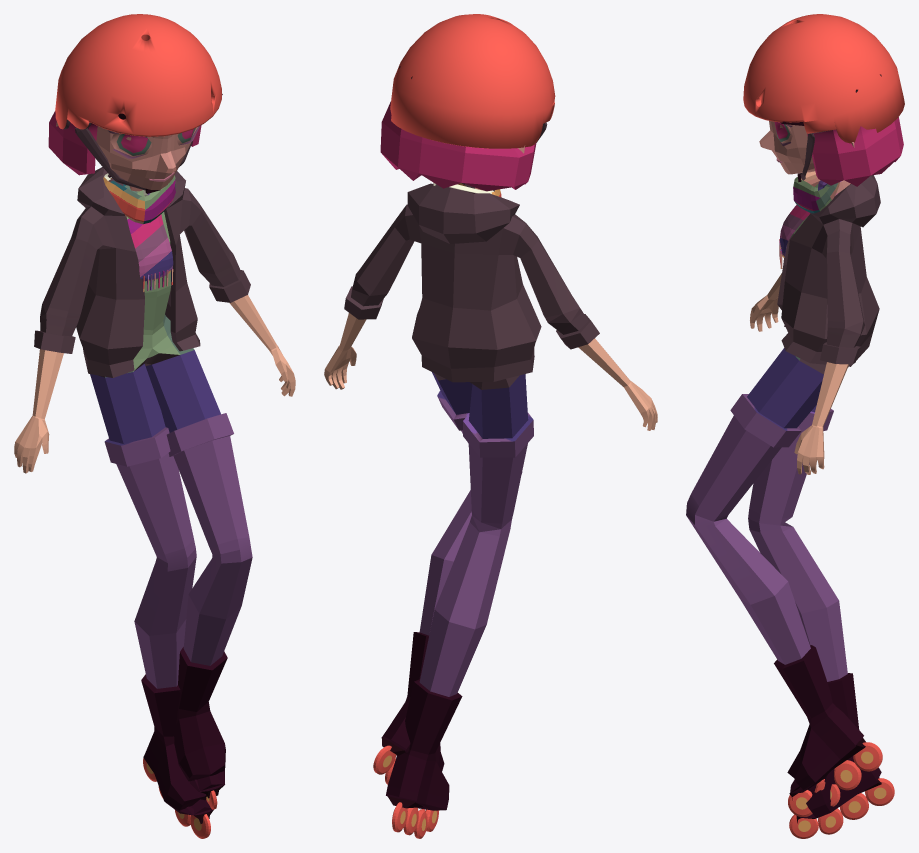
Rendered from Player.obj.
The picture shows the model from 3 angles, left to right: view 1: azimuth 30°, elevation 25°; view 2: azimuth 150°, elevation 25°; view 3: azimuth 270°, elevation 25°; orthographic projection. The views are drawn at different scales.
Visible parts, largest first — view 1: Body_Cube.011; view 2: Body_Cube.011; view 3: Body_Cube.011.
Boxes of the visible parts, <box> form: Body_Cube.011: <box>14,14,295,838</box>; Body_Cube.011: <box>324,14,657,838</box>; Body_Cube.011: <box>686,14,904,838</box>.
Bounding box in the file's own units: 1.01 × 2.65 × 0.6633.
